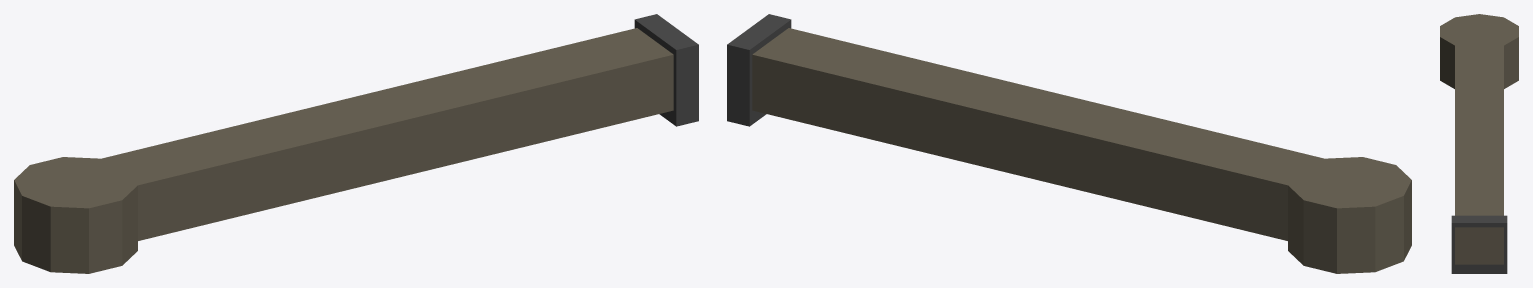
File: SMG4_01_3.fbx
3 renders of one model, left to right at view 1: azimuth 30°, elevation 25°; view 2: azimuth 150°, elevation 25°; view 3: azimuth 270°, elevation 25°, orthographic. The views are drawn at different scales.
Visible parts, largest first — view 1: SMG4_01_3; view 2: SMG4_01_3; view 3: SMG4_01_3.
Part boxes in pixels (x1=…): SMG4_01_3: x1=14, y1=14, x2=698, y2=273; SMG4_01_3: x1=727, y1=14, x2=1411, y2=273; SMG4_01_3: x1=1440, y1=14, x2=1518, y2=273.
Bounding box in the file's own units: 0.3268 × 0.0365 × 0.0511.
